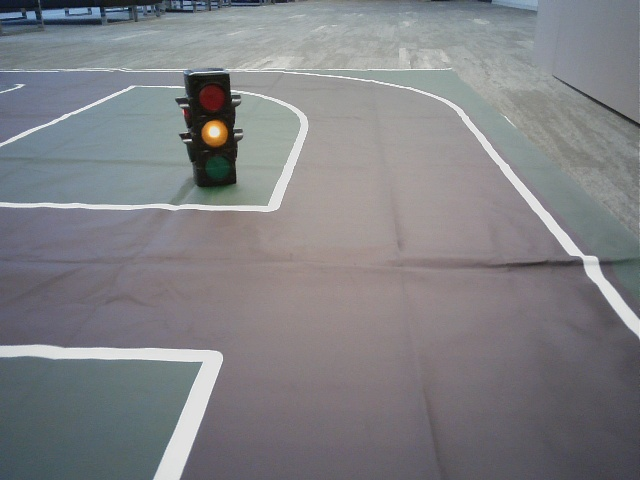yellow: (187, 79, 234, 183)
